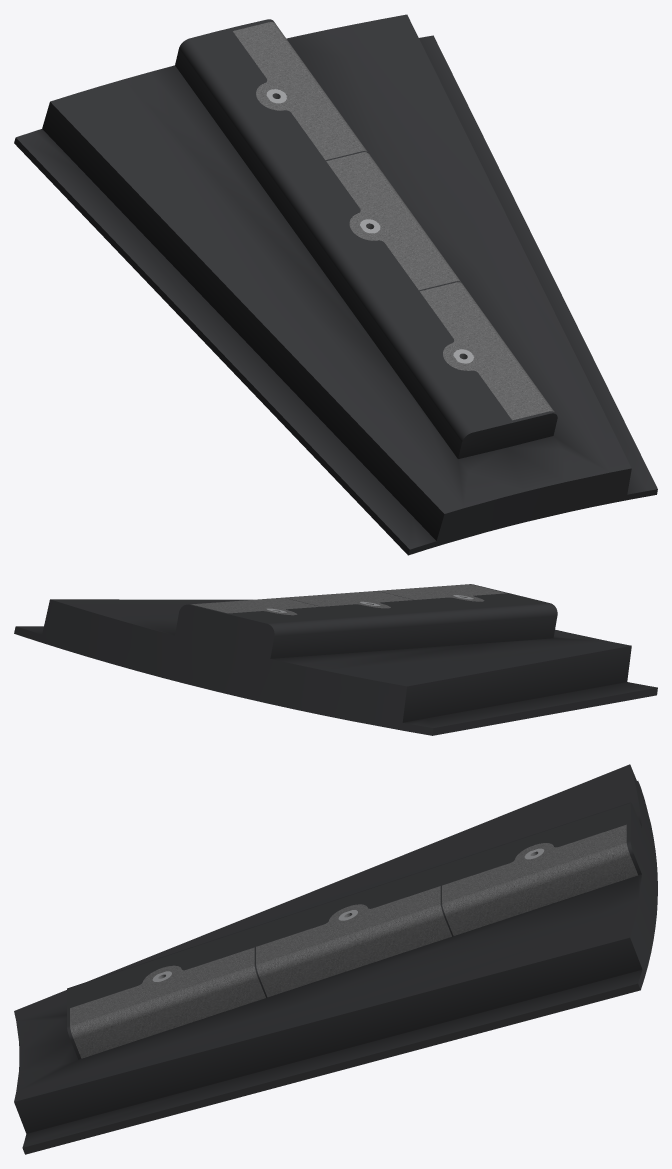
File: mining-composite-ball-mill-end-liner.glb
3 renders of one model, top to bottom at view 1: azimuth 30°, elevation 25°; view 2: azimuth 150°, elevation 25°; view 3: azimuth 270°, elevation 25°, orthographic.
Visible parts, largest first — view 1: composite, compositeInsert; view 2: composite, compositeInsert; view 3: composite, compositeInsert.
Boxes of the visible parts, x1,y1,x2,y2 form: composite: [14, 14, 657, 555]; compositeInsert: [232, 22, 554, 420]; composite: [14, 584, 657, 735]; compositeInsert: [191, 584, 506, 615]; composite: [14, 764, 657, 1154]; compositeInsert: [70, 824, 637, 1058].
Bounding box in the file's own units: 0.9205 × 0.5752 × 1.23.
Materials: 3 (1 with a texture image).
